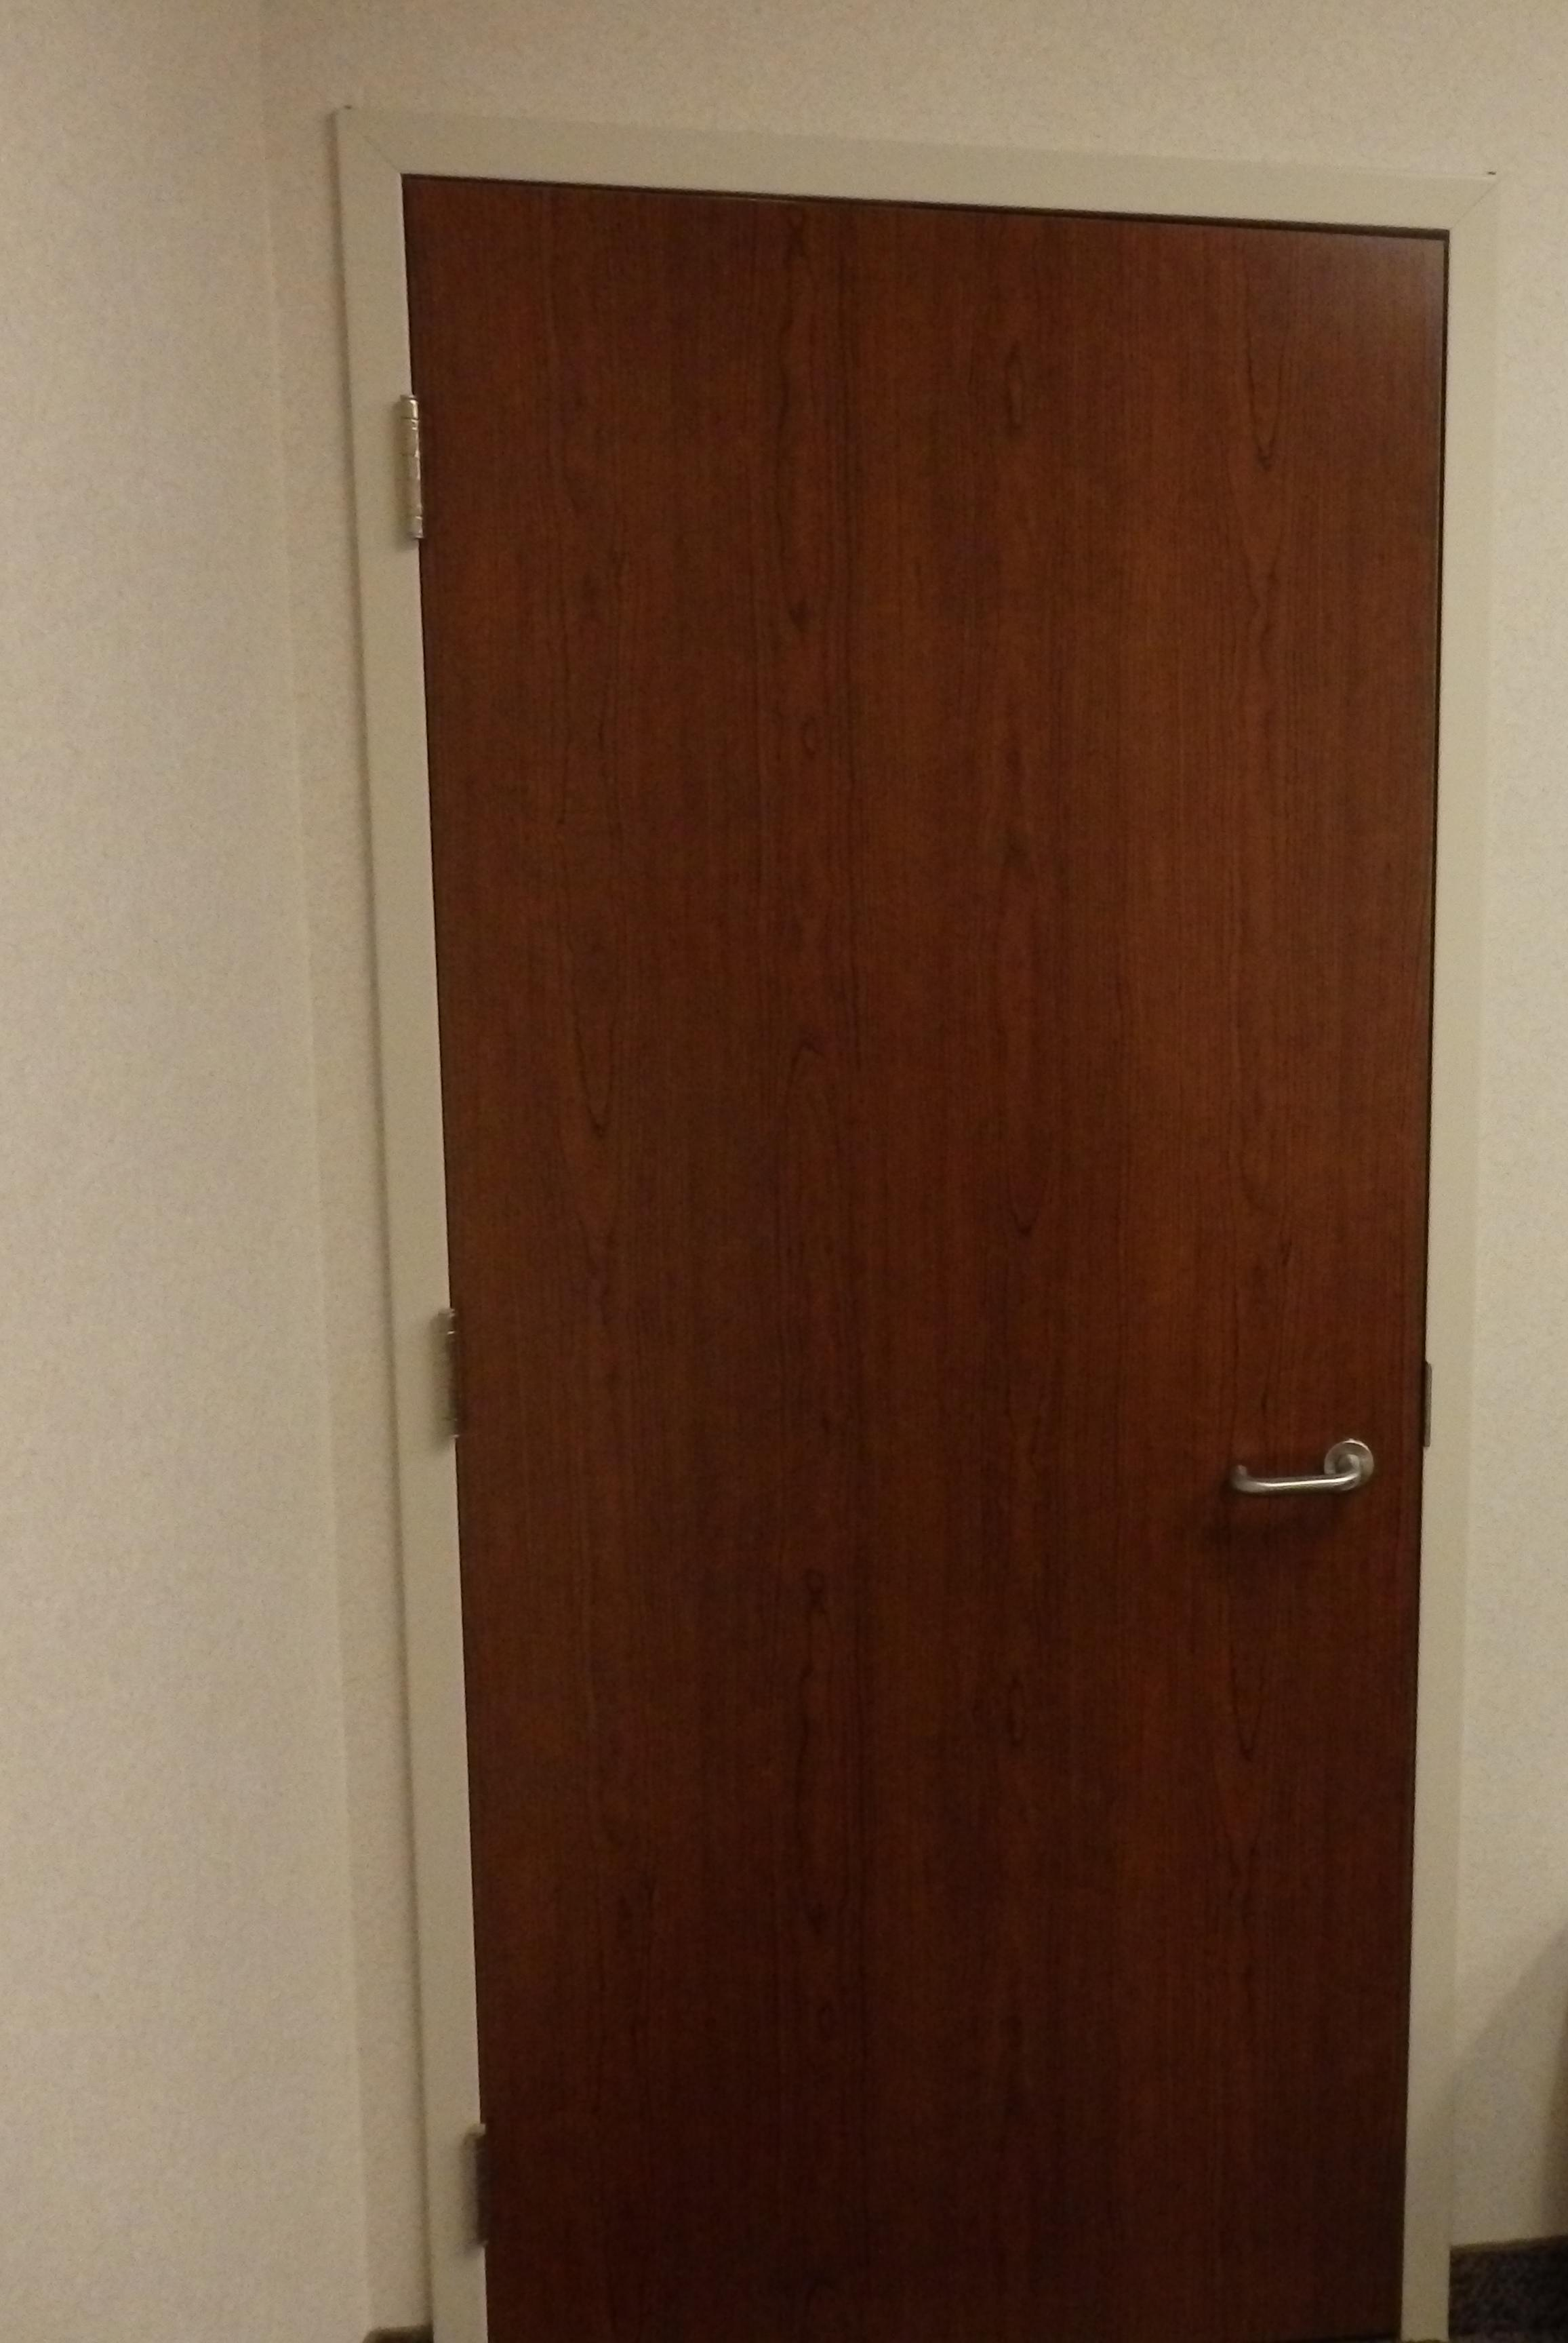door: (471, 227, 1405, 2343)
handle: (1223, 1396, 1370, 1543)
